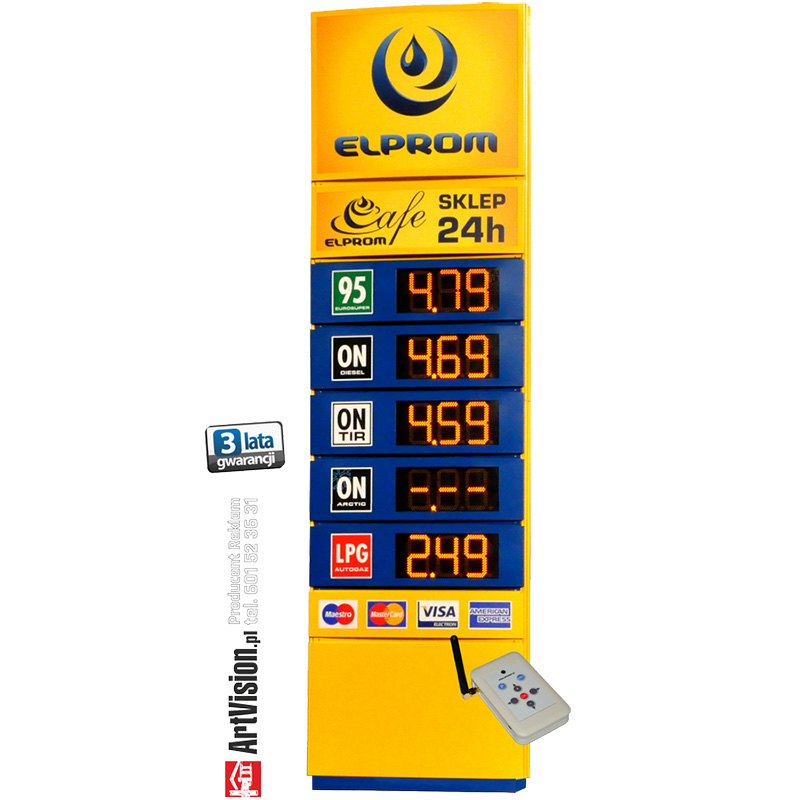LPG: (329, 528, 373, 580)
ON: (326, 399, 374, 448), (329, 331, 373, 383), (328, 466, 375, 514)
PB95: (330, 267, 375, 315)
